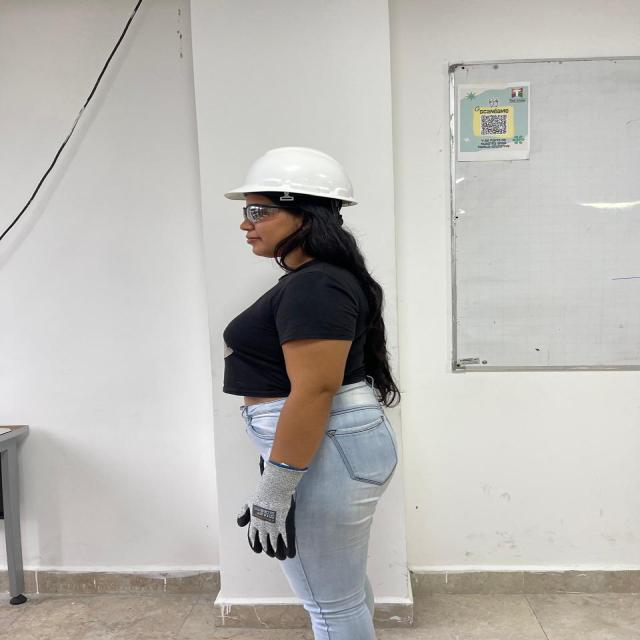helmet: (220, 144, 364, 202)
protective_glasses: (236, 203, 306, 223)
